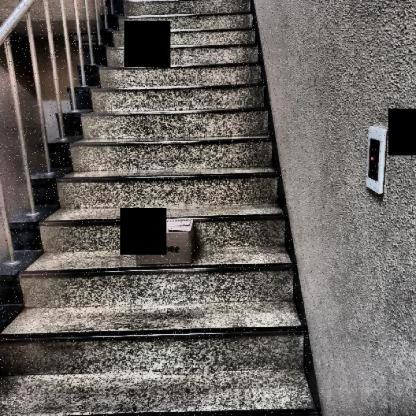-: (123, 208, 206, 278)
